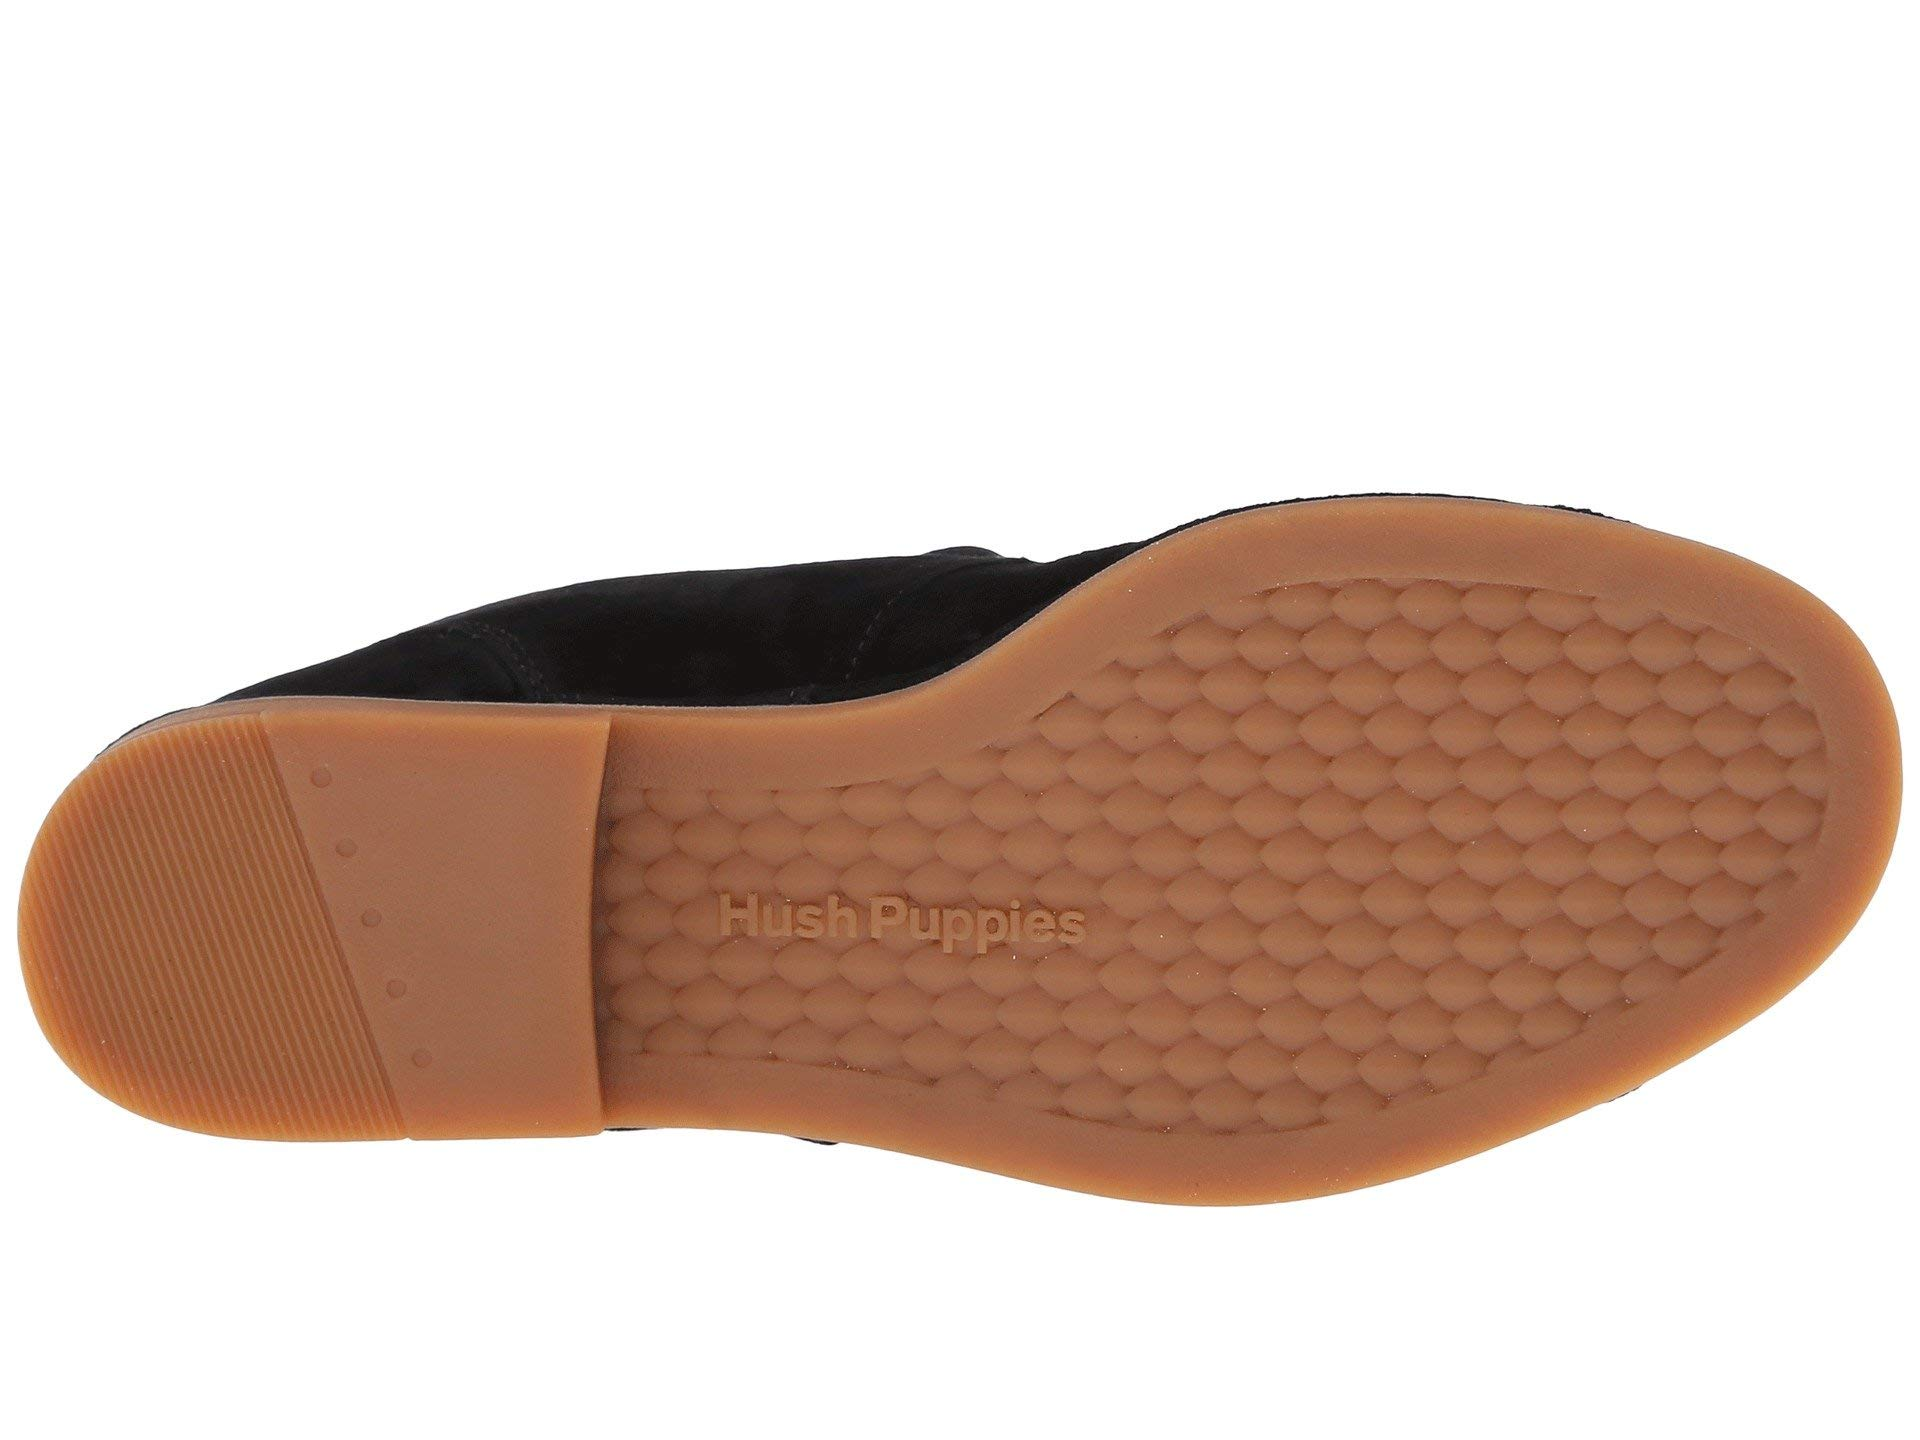circle: (641, 805, 1451, 1047), (1237, 578, 1758, 787), (290, 761, 528, 1119), (1516, 836, 1784, 961), (1067, 691, 1202, 788)
line: (290, 761, 528, 1119), (88, 803, 337, 1122), (113, 740, 274, 812)
quad: (641, 805, 1451, 1047)
text: (641, 805, 1451, 1047)
